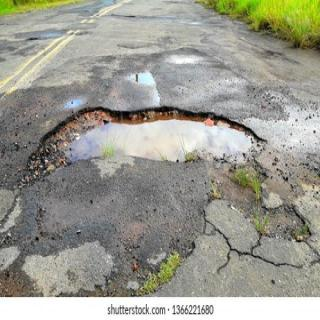pothole: (28, 108, 264, 178)
